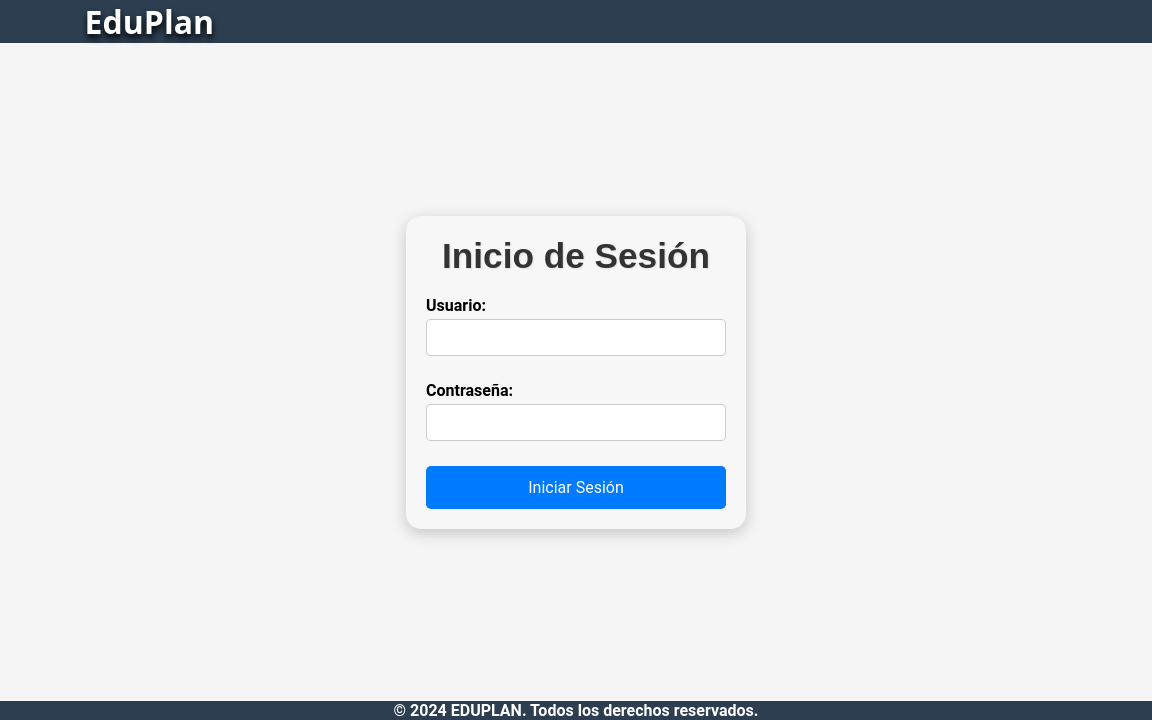
Test: Pruebas de inicio de sesión con errores › Debe mostrar un mensaje de error al ingresar credenciales incorrectas
Ingresamos credenciales incorrectas
Type "usuarioIncorrecto" into the field with test id "input-usuario" at x=576, y=338, box [426, 319, 726, 356]
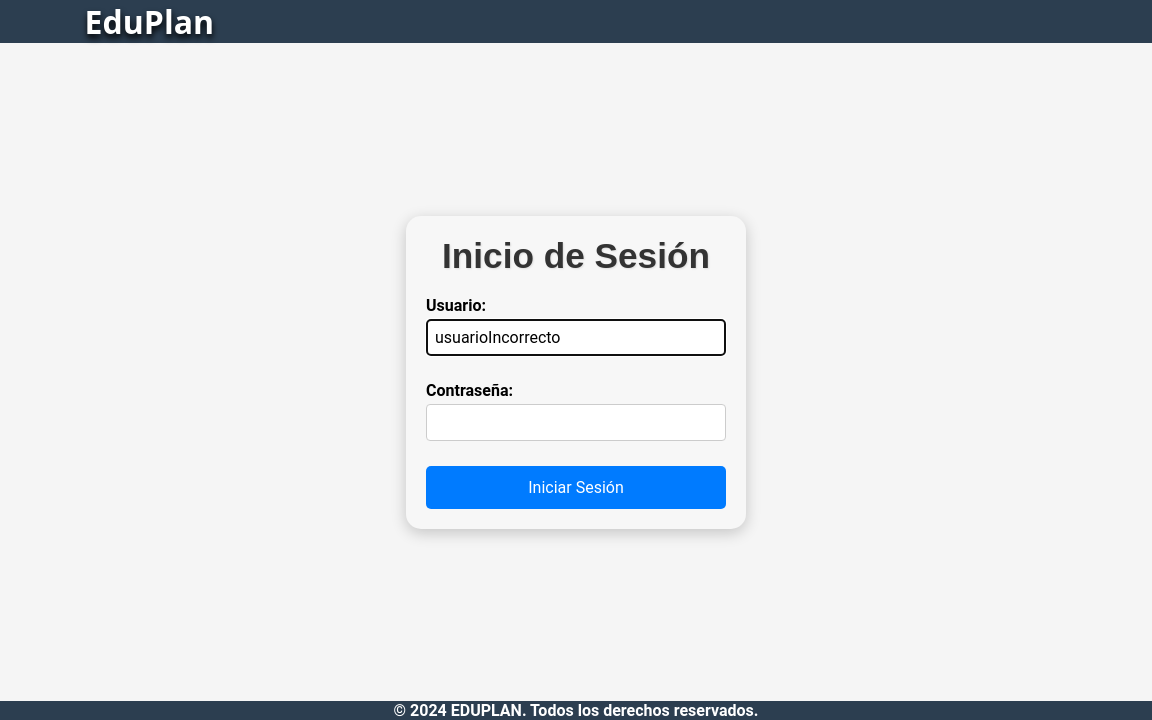
Type "contrasenaIncorrecta" into the password field with test id "input-contrasena" at x=576, y=423, box [426, 404, 726, 441]
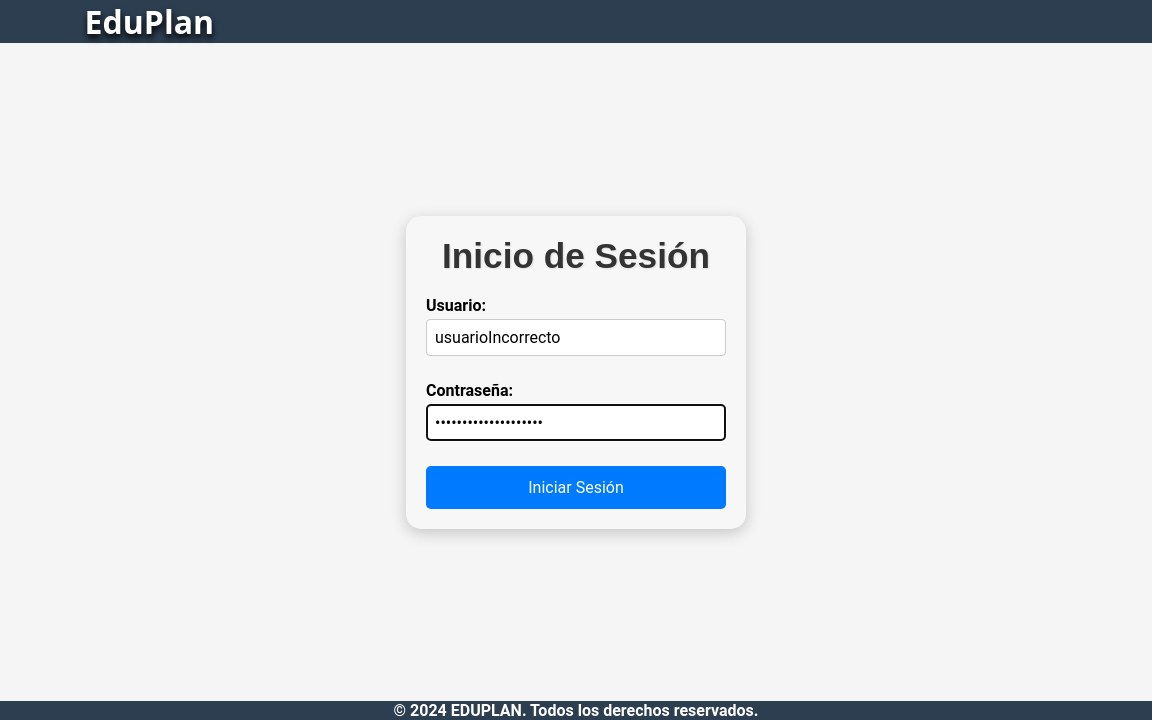
Click the button with test id "submit-button" at x=576, y=488, box [426, 466, 726, 509]
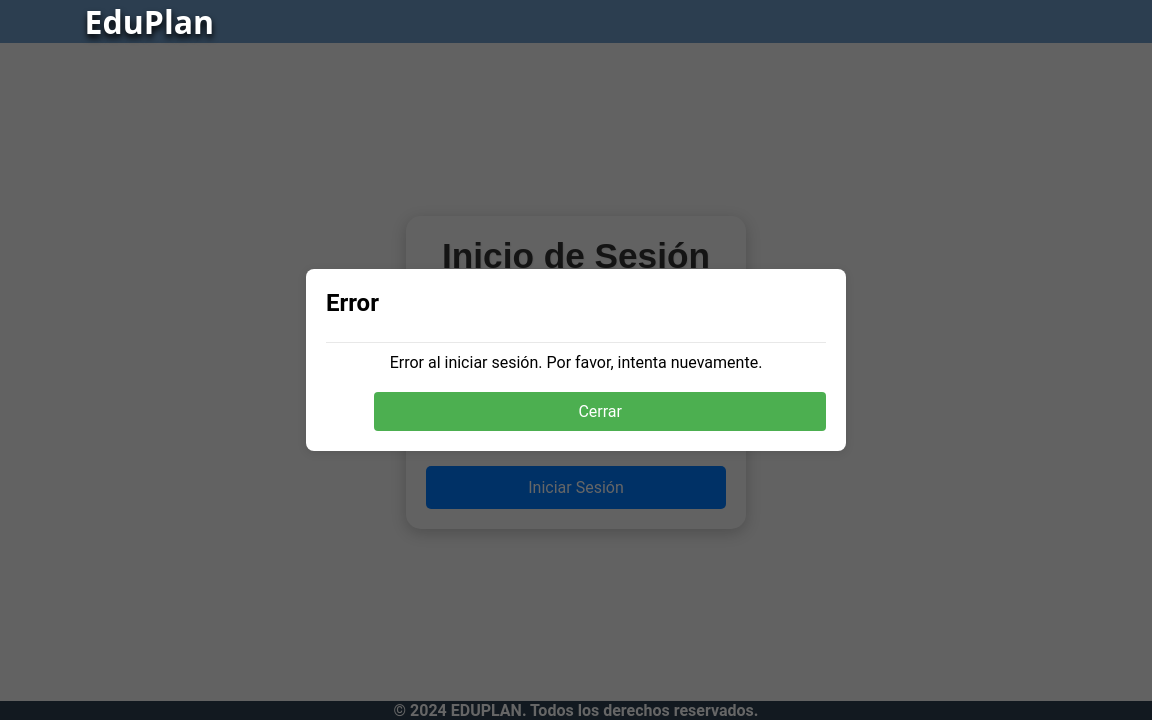
Expected: the text "Error al iniciar sesión. Por favor, intenta nuevamente." is shown, [390, 353, 762, 372]
